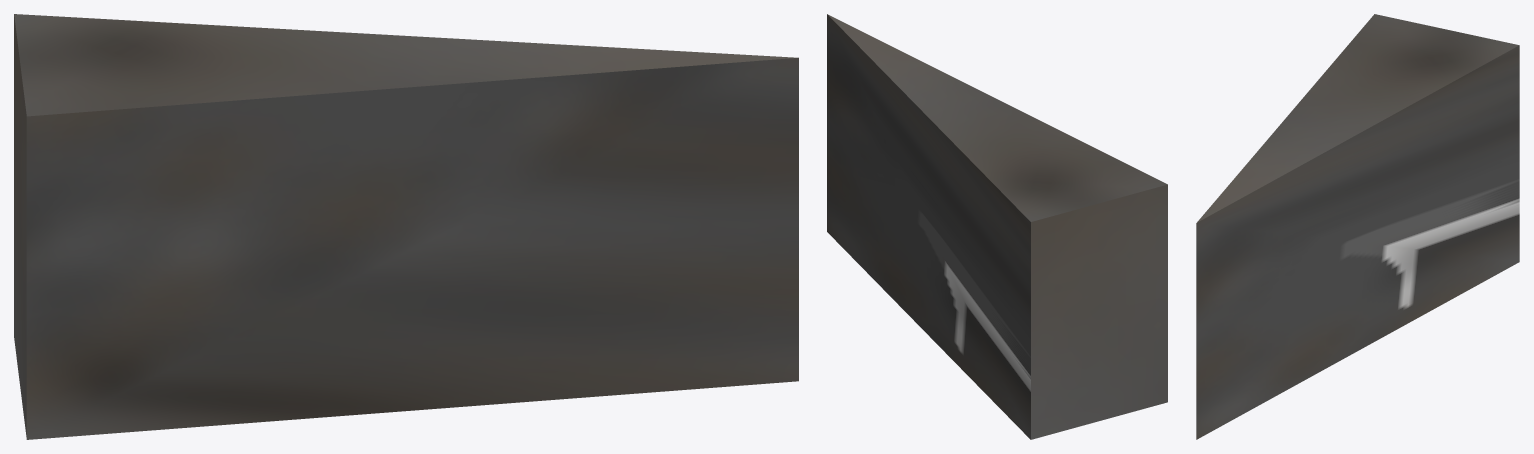
Rendered from ishi_01_10_2.fbx.
3 views of the same model, side by side, from view 1: azimuth 30°, elevation 25°; view 2: azimuth 150°, elevation 25°; view 3: azimuth 270°, elevation 25° (orthographic). The views are drawn at different scales.
Parts seen in each view (by area): view 1: polySurface15; view 2: polySurface15; view 3: polySurface15.
Part boxes in pixels (x1,y1,x2,y2): polySurface15: (14,14,798,439); polySurface15: (827,14,1167,439); polySurface15: (1196,14,1519,439).
Size of the model in its own units: 9.63 by 4.66 by 6.29.
1 material, 1 textured.
